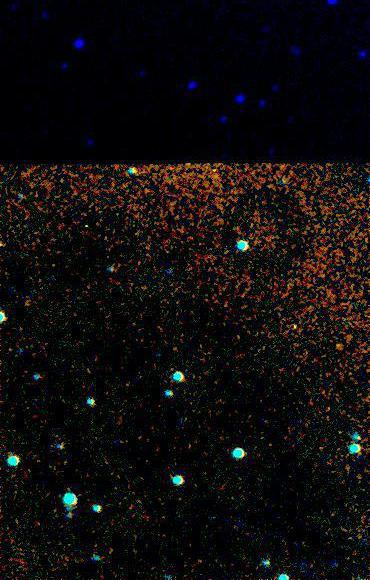star: (277, 309, 307, 339)
